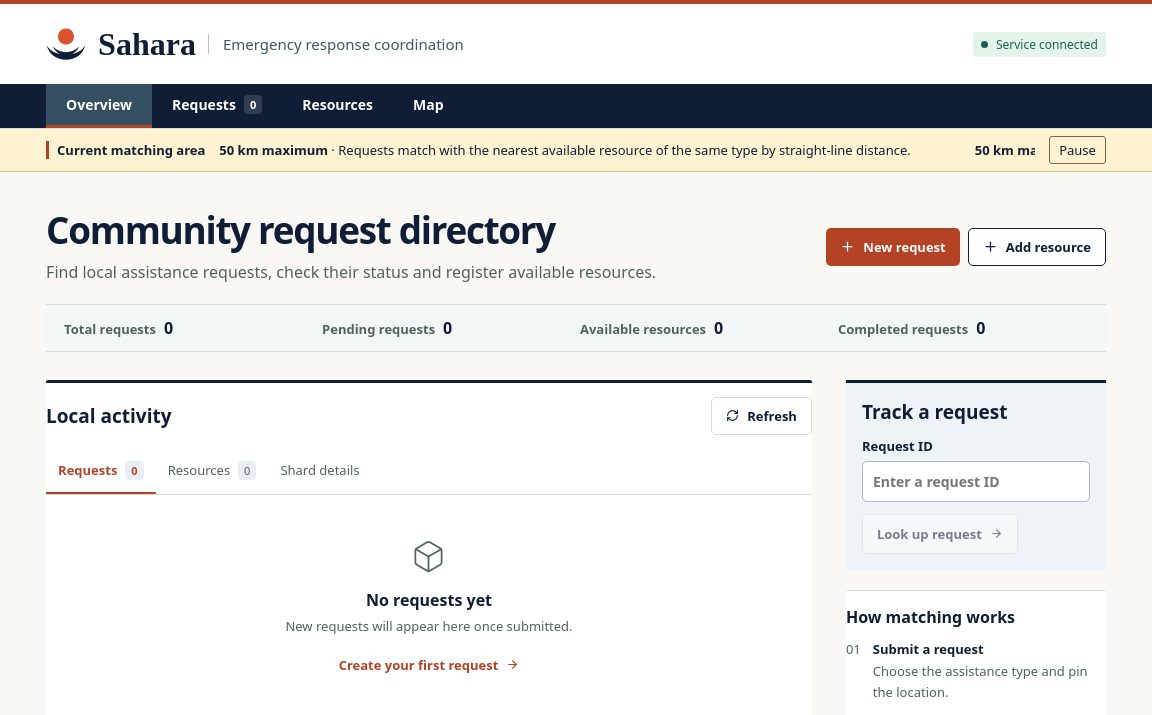
Test: shows only the relevant refresh button in each activity tab
Expected: the button with aria-label "Refresh data" is shown, [711, 397, 812, 435]
Click the tab "Shard details": click(320, 471) [268, 449, 372, 494]
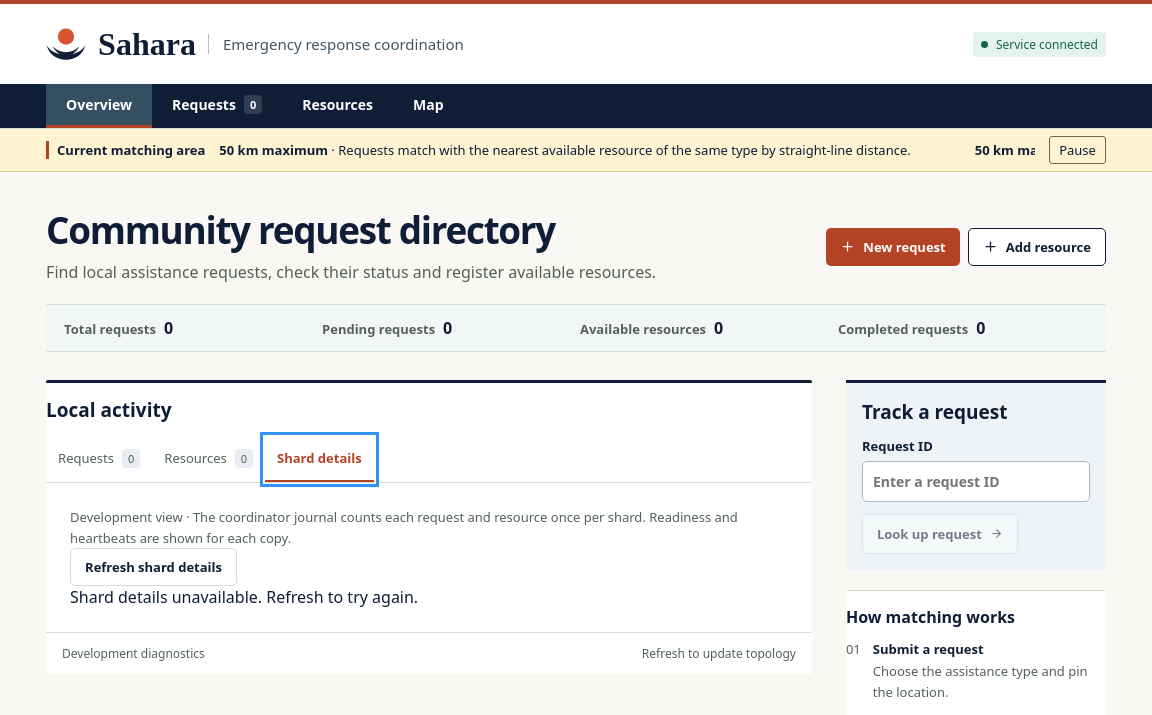
Expected: the panel named "Shard details" is shown, [46, 483, 812, 632]
Expected: the text "Development view" is shown, [70, 508, 738, 547]
Expected: the button "Refresh shard details" is shown, [70, 548, 237, 586]
Click the tab "Resources 0": click(209, 459) [152, 437, 265, 482]
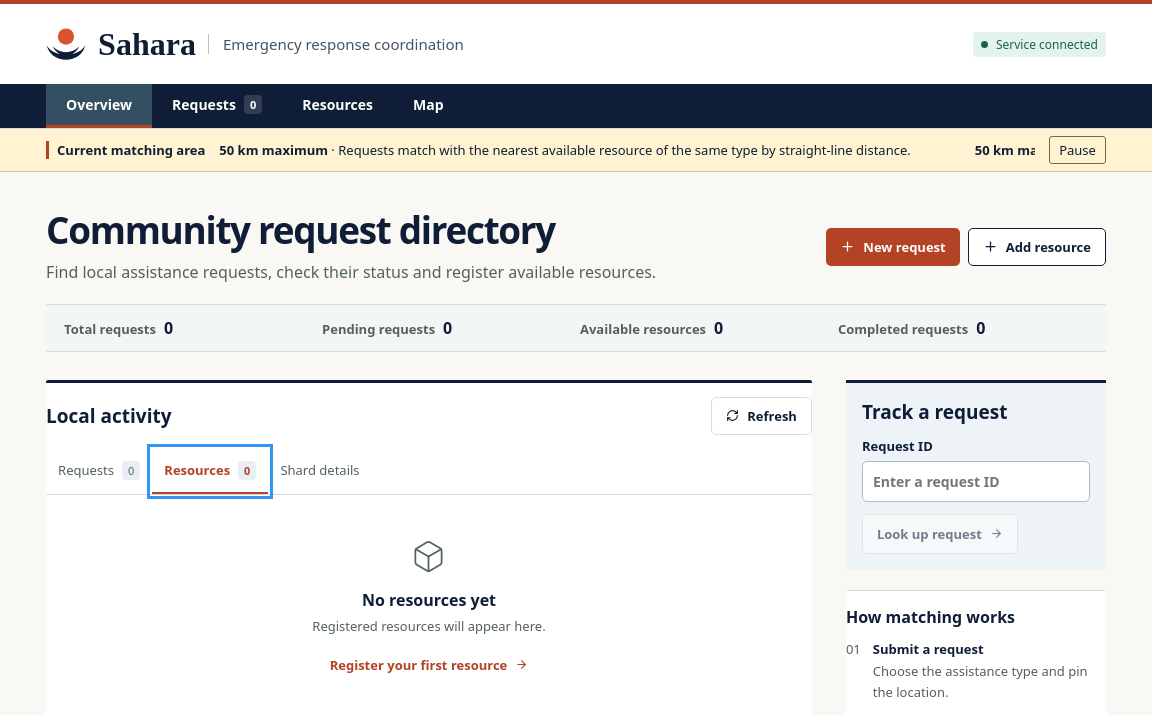
Expected: the button with aria-label "Refresh data" is shown, [711, 397, 812, 435]
Expected: the button "Refresh shard details" is gone
